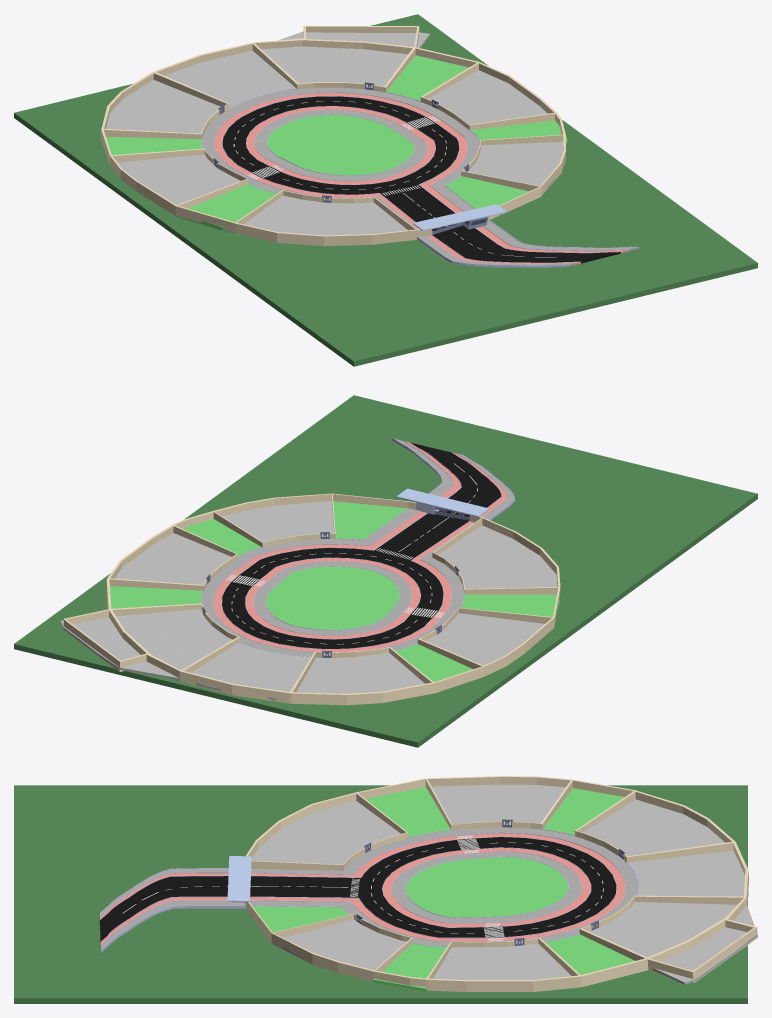
The model's file is Neighborhood.fbx.
The picture shows the model from 3 angles, top to bottom: view 1: azimuth 30°, elevation 25°; view 2: azimuth 150°, elevation 25°; view 3: azimuth 270°, elevation 25°; orthographic projection. The views are drawn at different scales.
Parts seen in each view (by area): view 1: estetico, Pvimento, AVerde, Asfalto, Muro, CMuro.015, Passeio, Ciclovia, Paralelepipeto, Guarita, Sinais, CMuro.005 (+2 smaller); view 2: estetico, Pvimento, AVerde, Asfalto, CMuro.015, Muro, Passeio, Ciclovia, Paralelepipeto, Guarita, Sinais, CMuro.010 (+3 smaller); view 3: estetico, Pvimento, AVerde, Asfalto, CMuro.015, Passeio, Ciclovia, Paralelepipeto, Muro, Sinais, Guarita, CMuro.006 (+10 smaller).
Boxes of the visible parts, box(x1,y1,x2,y2) form: estetico: box(14, 14, 757, 366); Pvimento: box(106, 31, 563, 235); AVerde: box(106, 55, 567, 233); Asfalto: box(222, 96, 620, 263); Muro: box(102, 25, 565, 245); CMuro.015: box(101, 39, 565, 246); Passeio: box(201, 87, 638, 266); Ciclovia: box(214, 93, 628, 264); Paralelepipeto: box(201, 88, 639, 267); Guarita: box(413, 204, 506, 234); Sinais: box(233, 101, 556, 257); CMuro.005: box(103, 129, 200, 139); estetico: box(14, 395, 757, 747); Pvimento: box(60, 501, 557, 700); AVerde: box(110, 501, 559, 681); Asfalto: box(222, 443, 501, 648); CMuro.015: box(106, 493, 560, 705); Muro: box(63, 493, 559, 705); Passeio: box(201, 438, 514, 656); Ciclovia: box(213, 441, 506, 652); Paralelepipeto: box(201, 438, 514, 656); Guarita: box(396, 488, 489, 520); Sinais: box(226, 463, 477, 644); CMuro.010: box(458, 572, 560, 594); estetico: box(14, 785, 747, 1003); Pvimento: box(251, 784, 757, 984); AVerde: box(251, 787, 634, 991); Asfalto: box(99, 837, 616, 942); CMuro.015: box(246, 776, 748, 991); Passeio: box(100, 827, 638, 949); Ciclovia: box(100, 833, 625, 944); Paralelepipeto: box(99, 829, 639, 952); Muro: box(244, 776, 757, 982); Sinais: box(122, 835, 603, 940); Guarita: box(227, 856, 251, 902); CMuro.006: box(623, 841, 735, 862).
Size of the model in its own units: 18719 by 988 by 27645.
